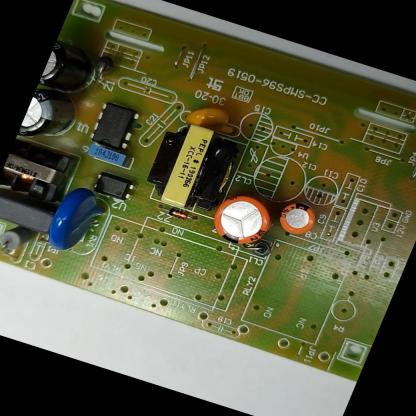Cap1: (203, 188, 280, 255)
Cap2: (272, 197, 321, 240)
Cap3: (17, 88, 83, 150)
Cap4: (38, 37, 102, 100)
MOSFET: (85, 99, 142, 153)
Mov: (39, 180, 113, 260)
Resistor: (0, 222, 38, 260)
Transformer: (136, 116, 242, 220), (0, 138, 79, 208)
